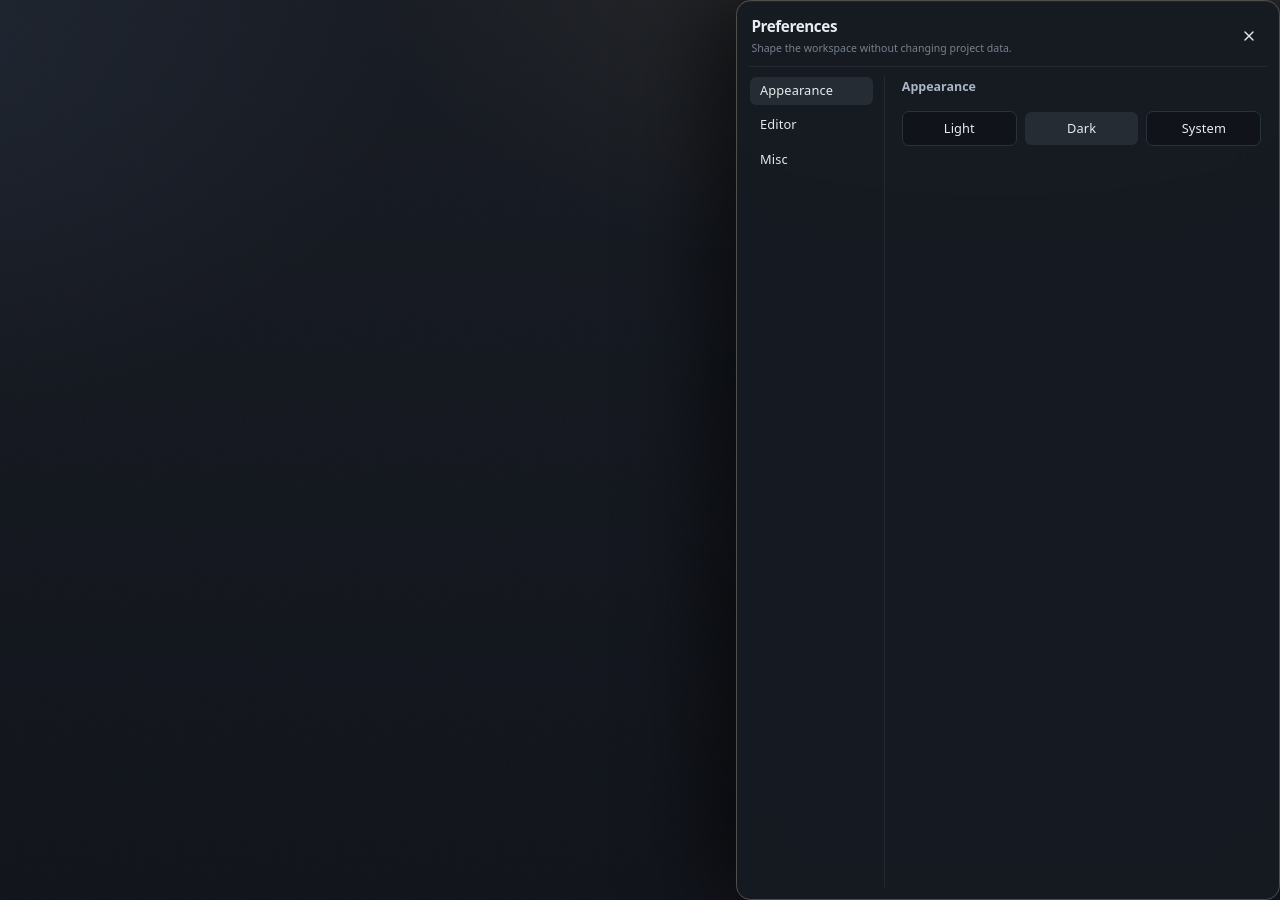
Test case: ConfigDrawer › shows the selected editor font while installed fonts are loading
Click the button "Editor".
click(811, 125)  # box [749,110,874,140]
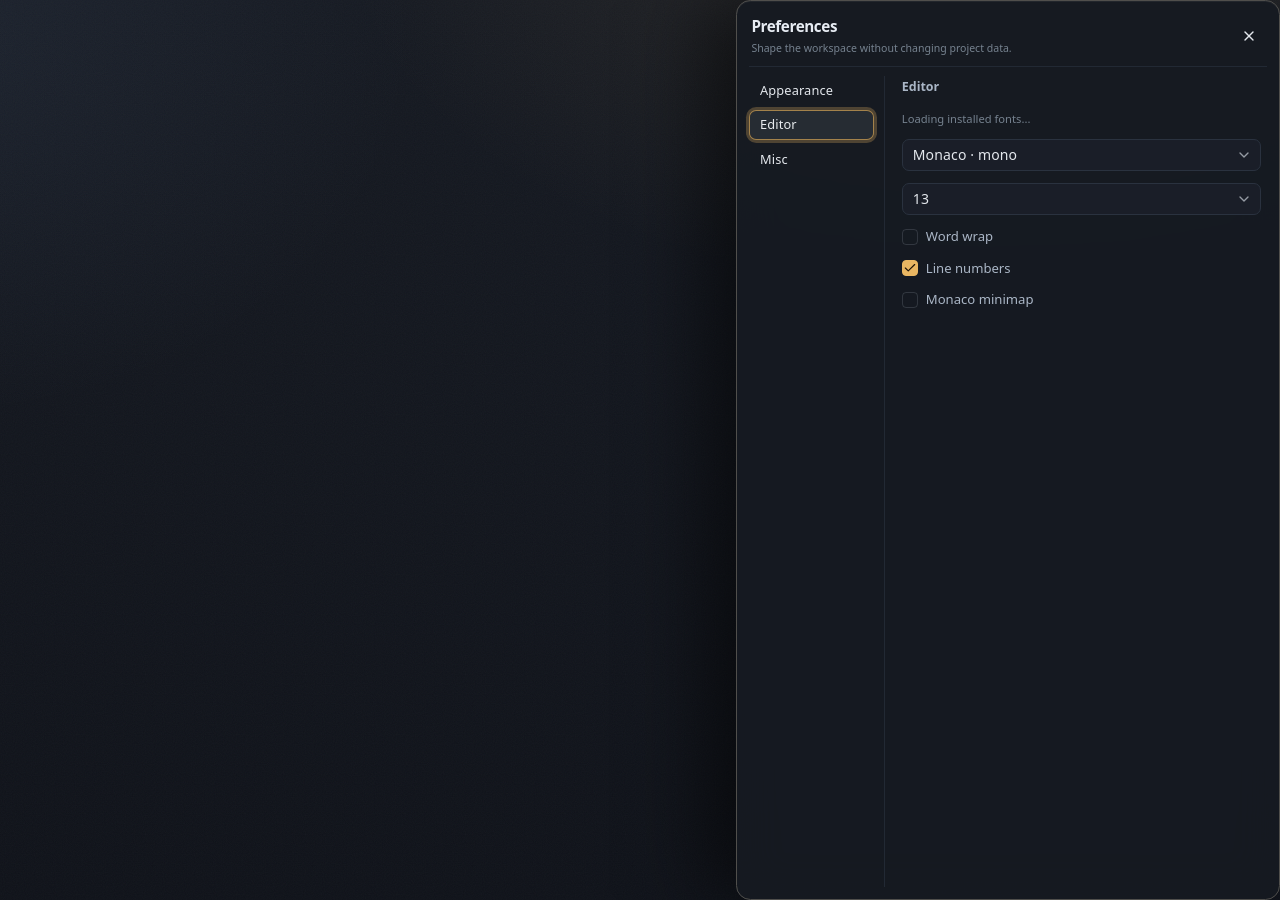
Check: the dropdown named "Editor font family" shows "Monaco", box [902,139,1261,171]
